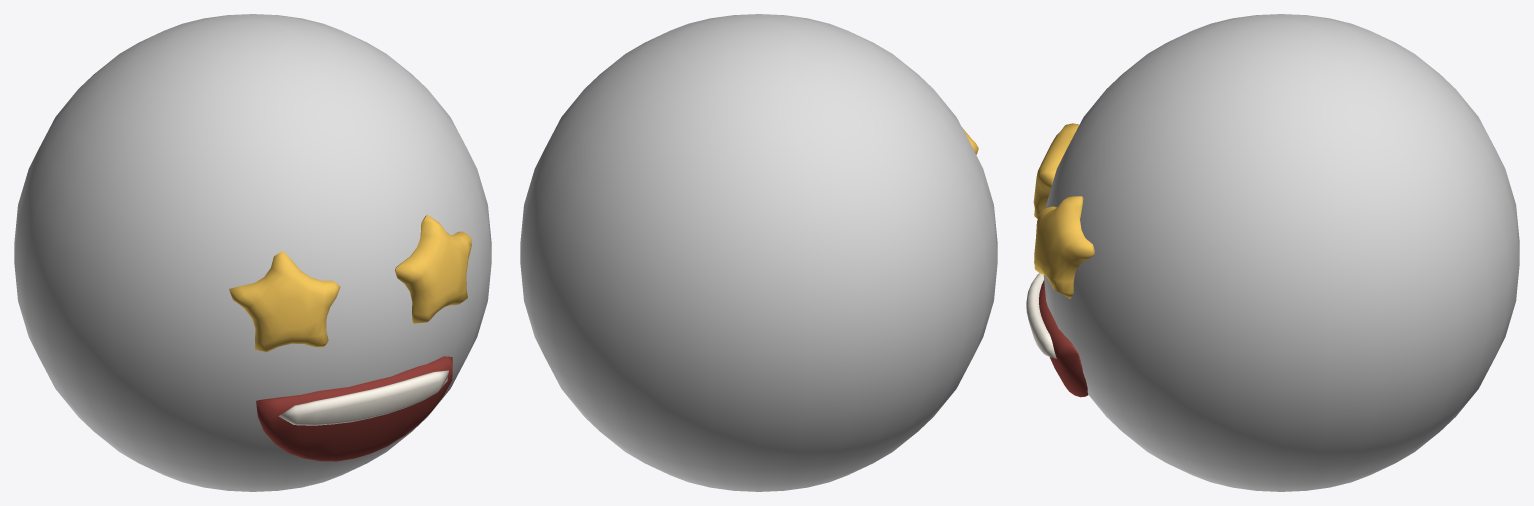
Rendered from face_star_eyes.glb.
3 renders of one model, left to right at view 1: azimuth 30°, elevation 25°; view 2: azimuth 150°, elevation 25°; view 3: azimuth 270°, elevation 25°, orthographic.
Visible parts, largest first — view 1: face_star_eyes; view 2: face_star_eyes; view 3: face_star_eyes.
Boxes of the visible parts, <box> form: face_star_eyes: <box>14,14,491,491</box>; face_star_eyes: <box>520,14,997,491</box>; face_star_eyes: <box>1026,14,1519,491</box>.
Size of the model in its own units: 1 by 1 by 1.03.
